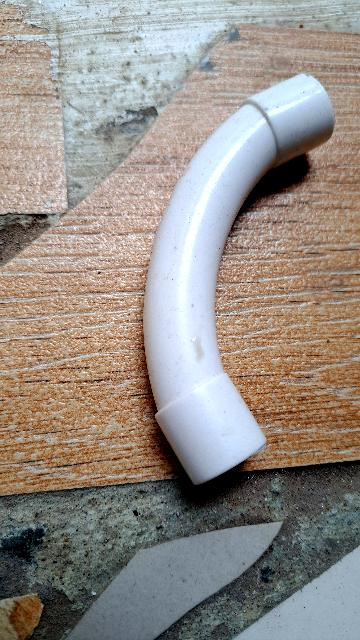hardplastic: (121, 74, 353, 519)
